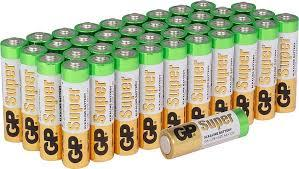battery: (150, 105, 254, 162), (54, 58, 93, 167), (133, 42, 168, 149), (83, 51, 118, 157), (0, 34, 33, 144), (110, 47, 142, 156), (35, 50, 64, 164), (17, 43, 46, 151)
